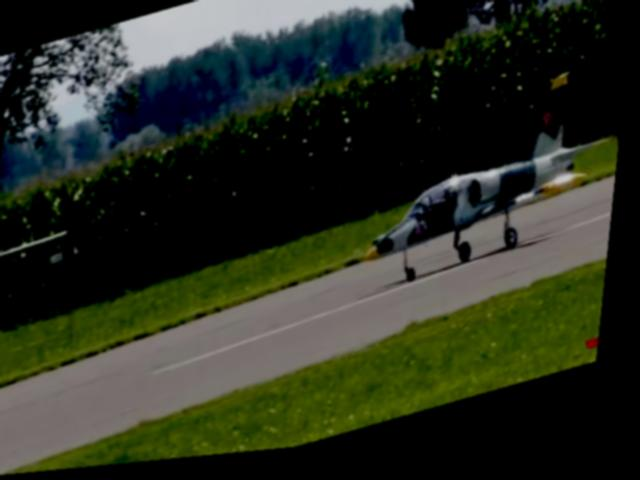uav: (336, 65, 631, 305)
